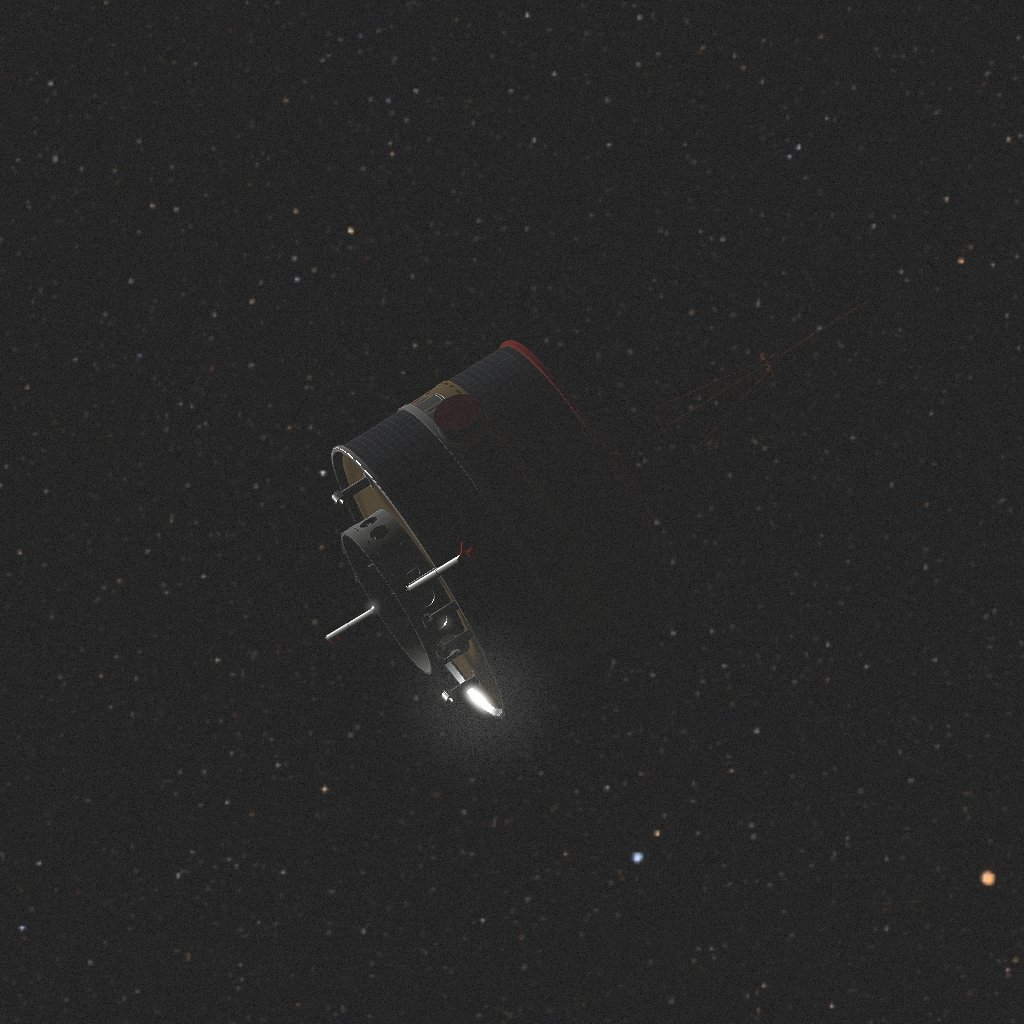double_star: (279, 282, 842, 760)
